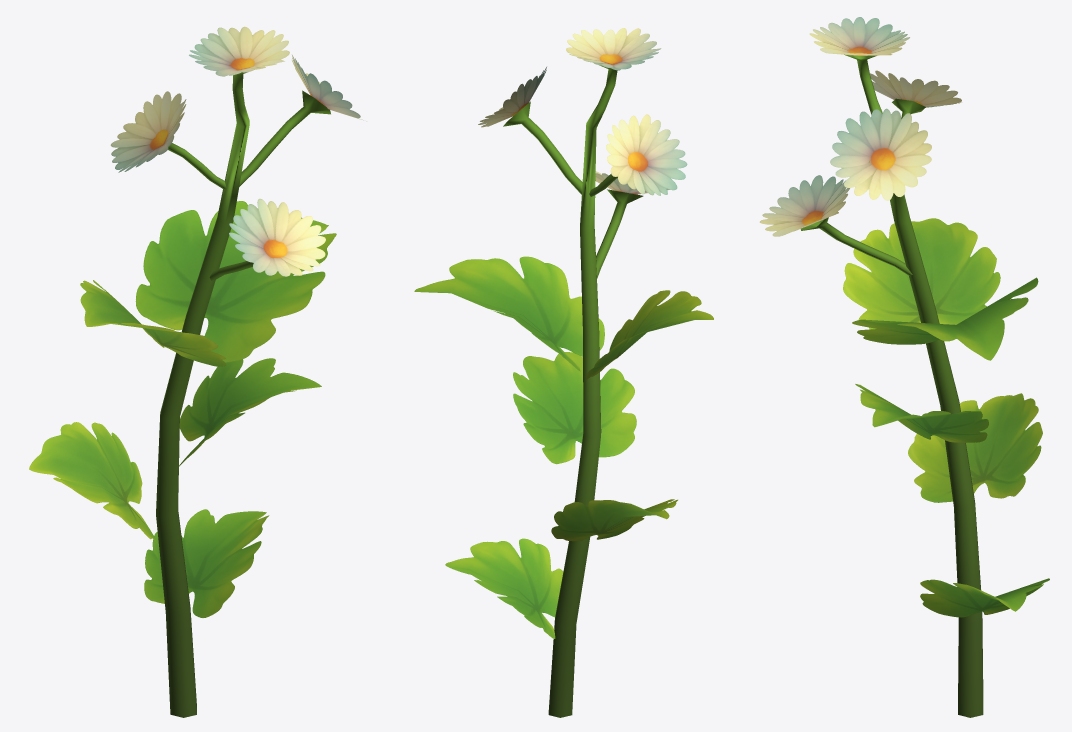
The picture shows the model from 3 angles, left to right: view 1: azimuth 30°, elevation 25°; view 2: azimuth 150°, elevation 25°; view 3: azimuth 270°, elevation 25°; orthographic projection. The views are drawn at different scales.
Visible parts, largest first — view 1: pl-daisy; view 2: pl-daisy; view 3: pl-daisy.
Part boxes in pixels (x1,y1,x2,y2): pl-daisy: (29,26,366,717); pl-daisy: (414,28,713,717); pl-daisy: (759,17,1049,717).
Bounding box in the file's own units: 0.6097 × 1.34 × 0.5378.
1 material, 1 textured.
